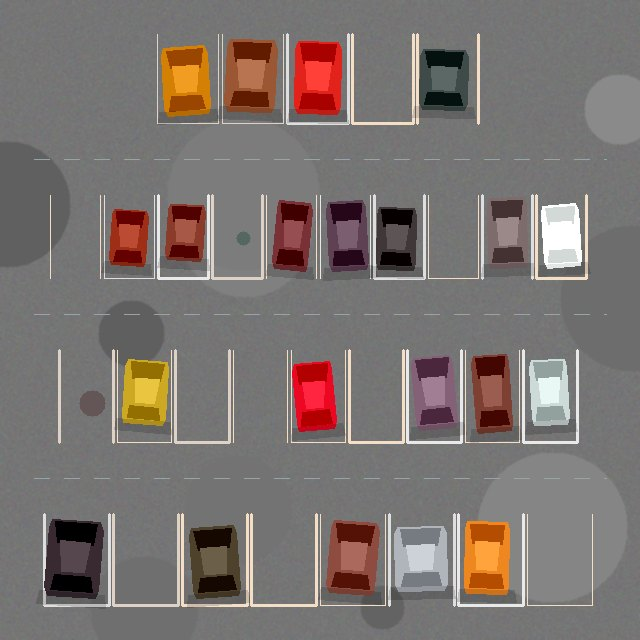space-empty: (113, 514, 178, 605), (251, 514, 316, 605), (527, 514, 592, 605), (352, 34, 413, 123), (59, 350, 113, 442), (175, 350, 229, 442), (233, 350, 287, 442), (349, 350, 403, 442), (50, 195, 100, 278), (212, 195, 262, 278), (428, 195, 478, 278)
space-occupied: (44, 514, 109, 605), (182, 514, 247, 605), (320, 514, 385, 605), (389, 514, 454, 605), (458, 514, 523, 605), (157, 34, 218, 123), (222, 34, 283, 123), (287, 34, 348, 123), (417, 34, 478, 123), (117, 350, 171, 442), (291, 350, 345, 442), (407, 350, 461, 442), (465, 350, 519, 442), (523, 350, 577, 442), (104, 195, 154, 278), (158, 195, 208, 278), (266, 195, 316, 278), (320, 195, 370, 278), (374, 195, 424, 278), (482, 195, 532, 278), (536, 195, 586, 278)
